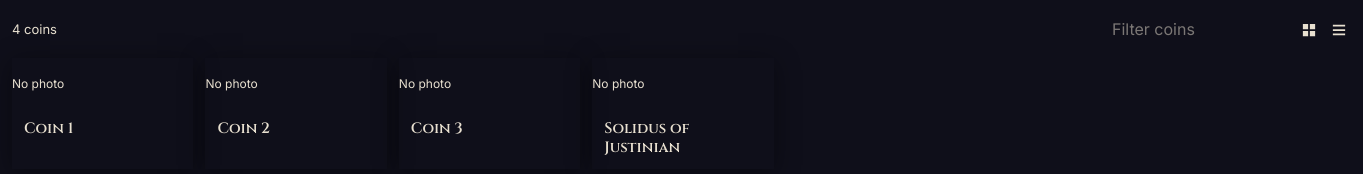
Test: CoinViewer › filters inside the panel and reports an empty filter
In the search field with placeholder "Filter coins": point(1192, 30) [1102,12,1282,48], type "solidus"
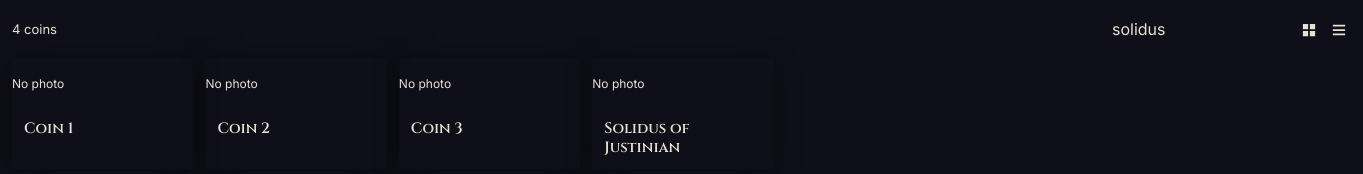
Submit the form, box [1102,12,1282,48]
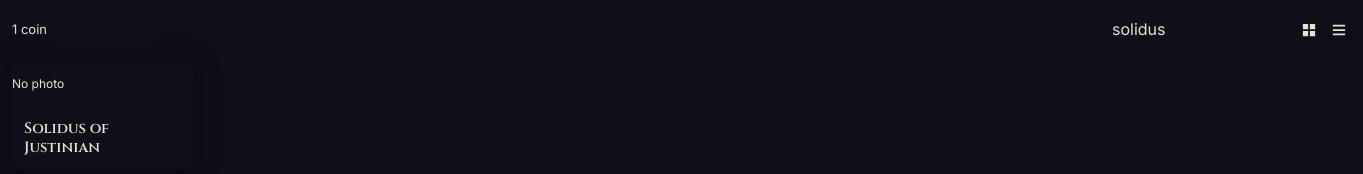
Expected: the text with class "name" reads "Solidus of Justinian", [24,118,109,158]
Replace the text in the search field named "Filter coins" with "aureus": point(1192, 30) [1102,12,1282,48]
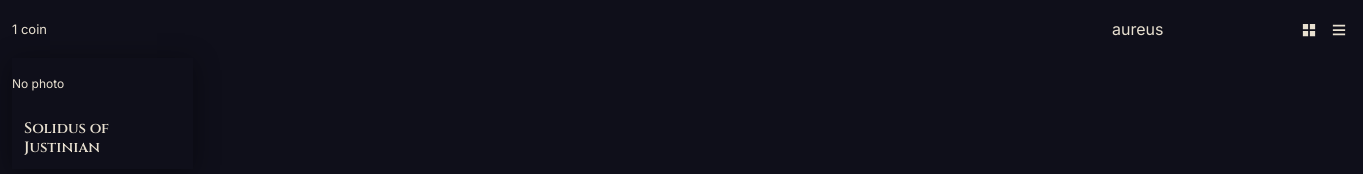
Submit the form, box [1102,12,1282,48]
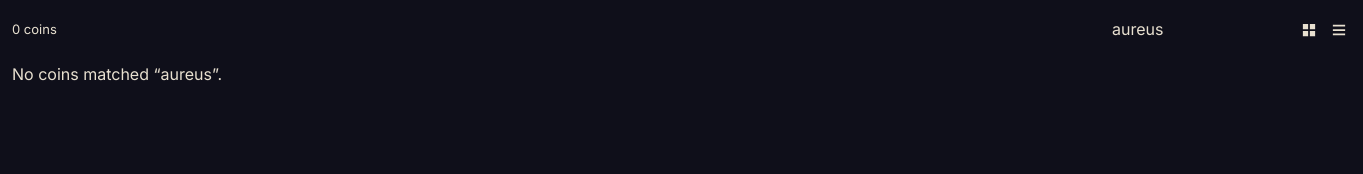
Expected: the text "No coins matched “aureus”." is shown, [12,64,222,84]
